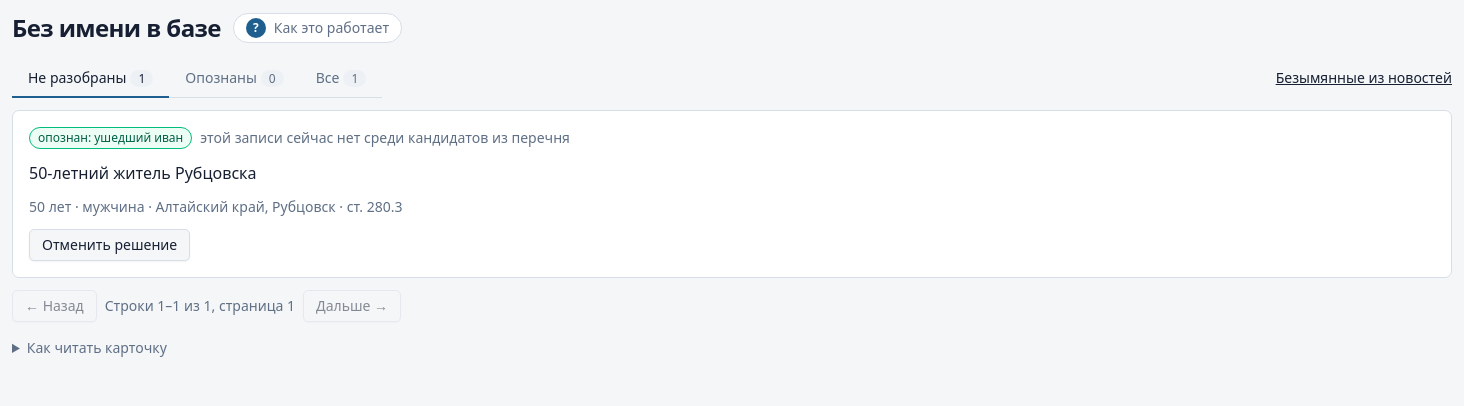
takes back a word on an entry no longer among the candidates
Expected: the text "этой записи сейчас нет среди кандидатов из перечня" is shown, [200,128,570,148]
Click the button "Отменить решение" at {"x": 110, "y": 245}, box [29,229,190,261]
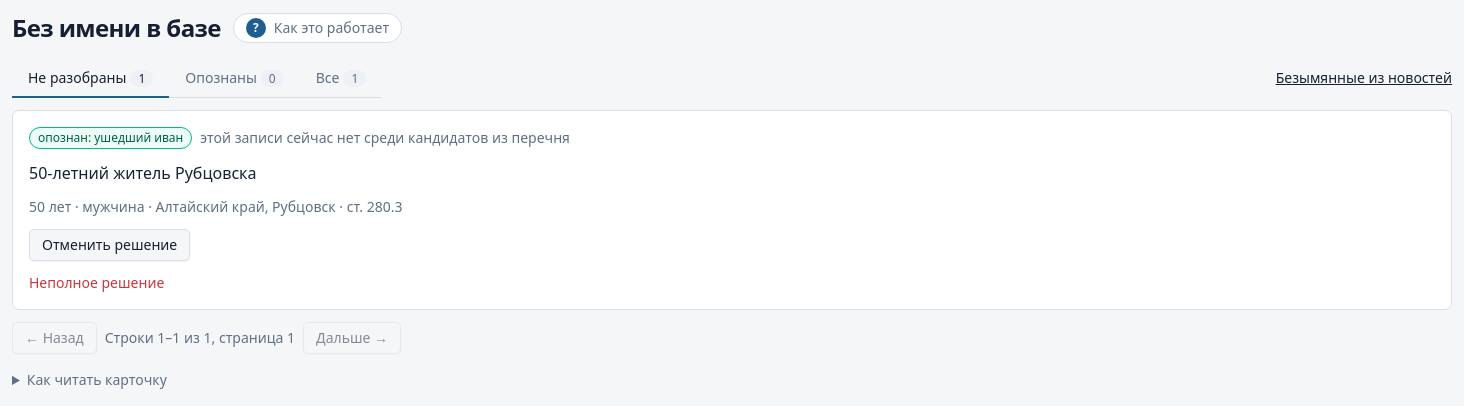
Result: the text "Неполное решение" is shown at [29,273,164,292]
